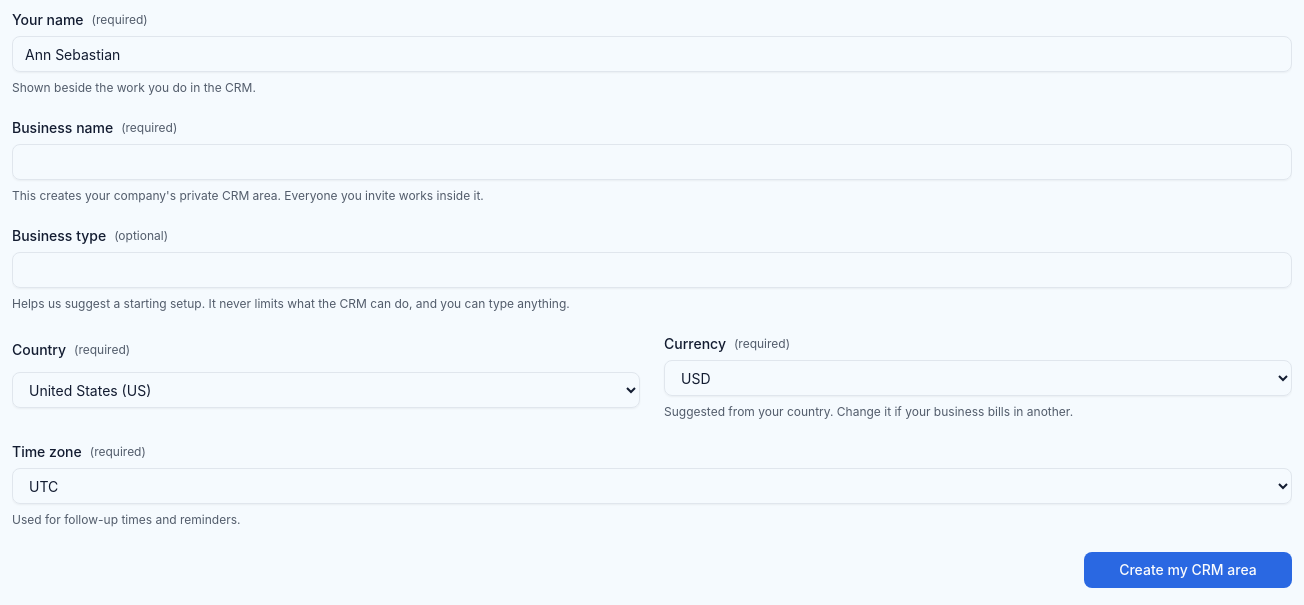
defaults never overwrite a person's choice › 11. suggests a currency when the country changes, while untouched
Select "India (IN)" in the dropdown labelled "Country (required)" at point(326, 390), box [12,372,640,408]
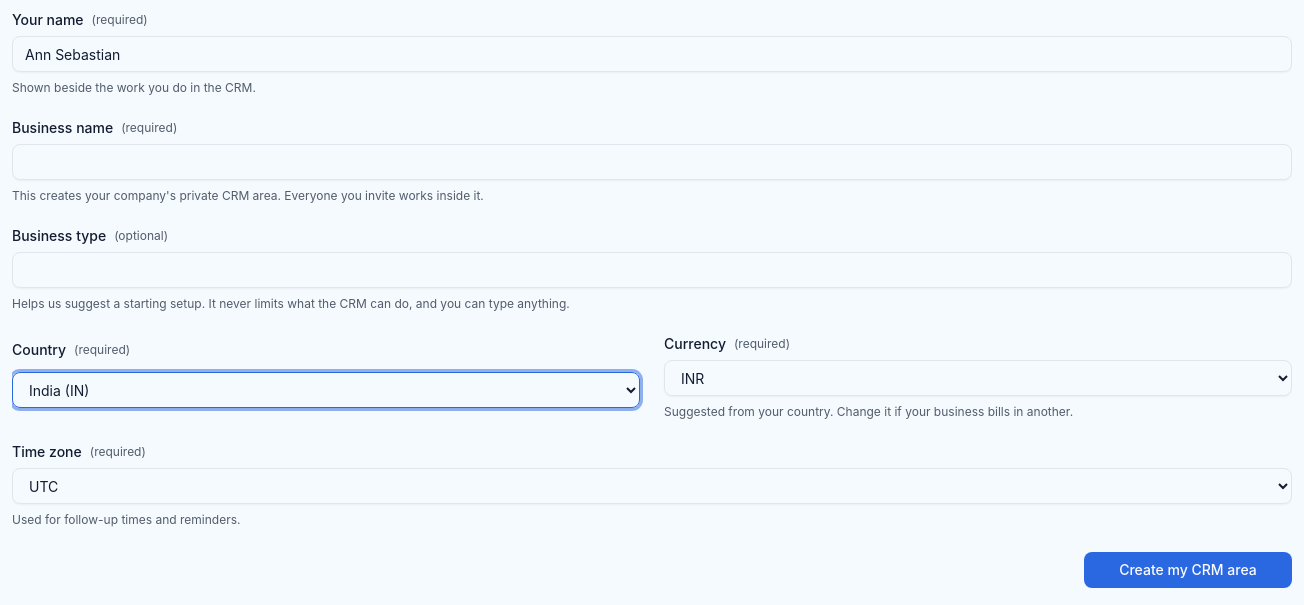
Now the dropdown labelled "Currency (required)" shows "INR", box [664,360,1292,396]
Select "GB" in the dropdown labelled "Country (required)" at point(326, 390), box [12,372,640,408]
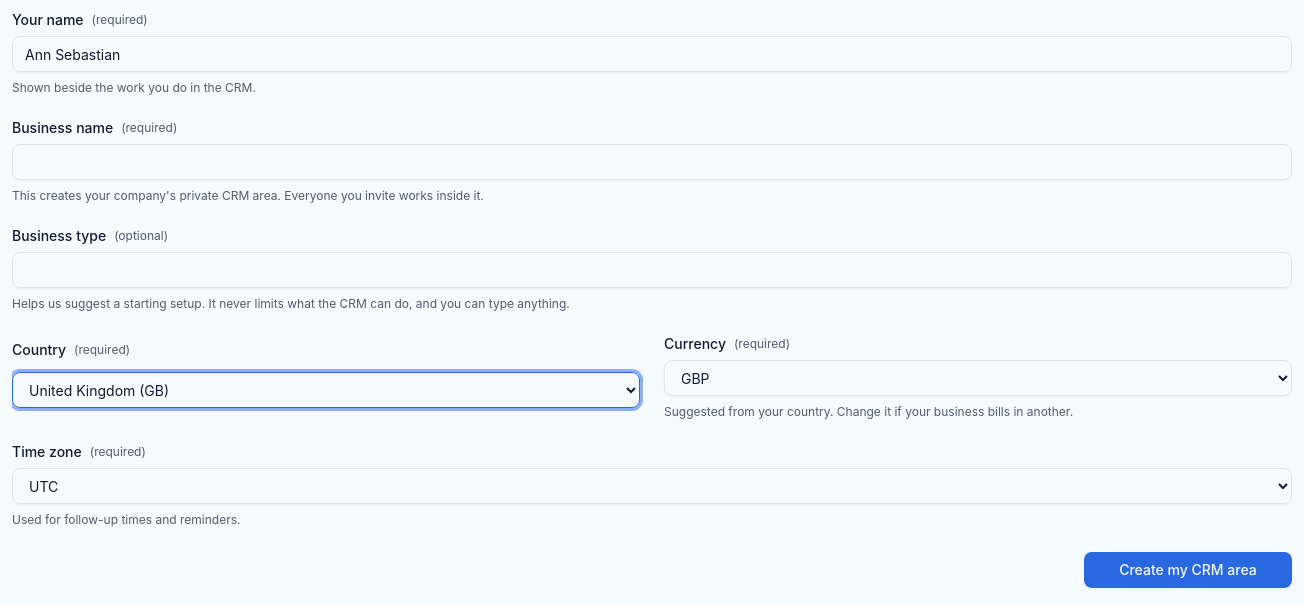
Now the dropdown labelled "Currency (required)" shows "GBP", box [664,360,1292,396]
